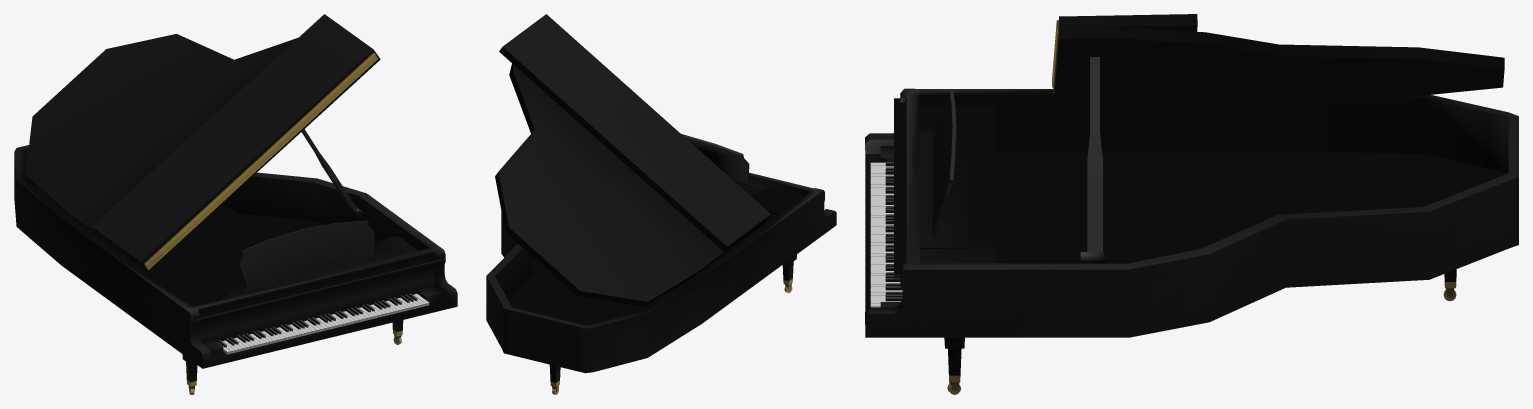
The picture shows the model from 3 angles, left to right: view 1: azimuth 30°, elevation 25°; view 2: azimuth 150°, elevation 25°; view 3: azimuth 270°, elevation 25°; orthographic projection. The views are drawn at different scales.
Parts seen in each view (by area): view 1: GrandPiano_Slide; view 2: GrandPiano_Slide; view 3: GrandPiano_Slide.
Boxes of the visible parts, left/top/right/bottom form: GrandPiano_Slide: left=14, top=14, right=457, bottom=394; GrandPiano_Slide: left=486, top=14, right=836, bottom=394; GrandPiano_Slide: left=865, top=14, right=1518, bottom=394.
Bounding box in the file's own units: 0.3273 × 0.3269 × 0.5.
